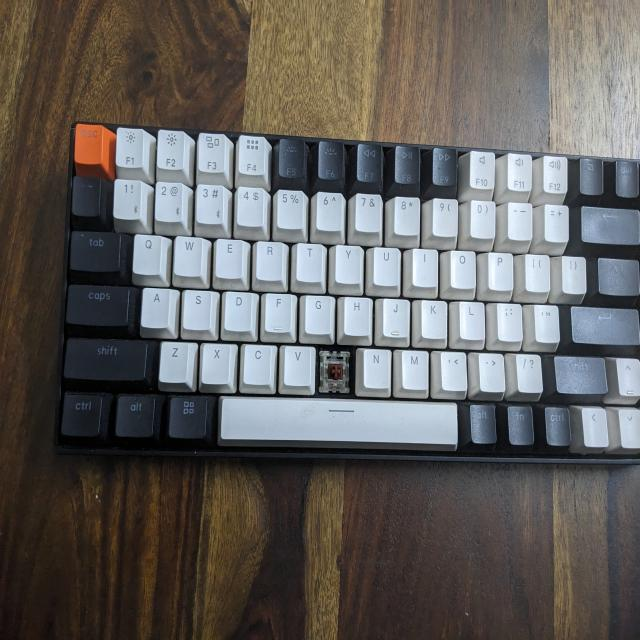C: (318, 345, 353, 395)
